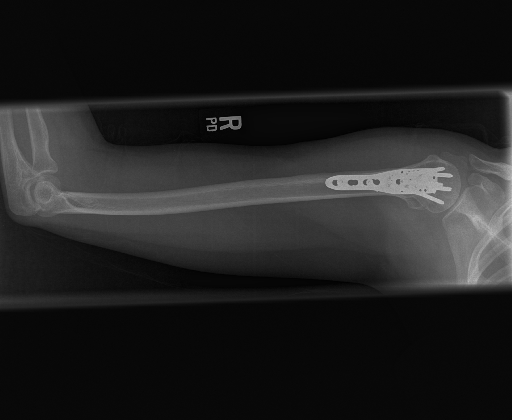implant: (323, 157, 457, 209)
